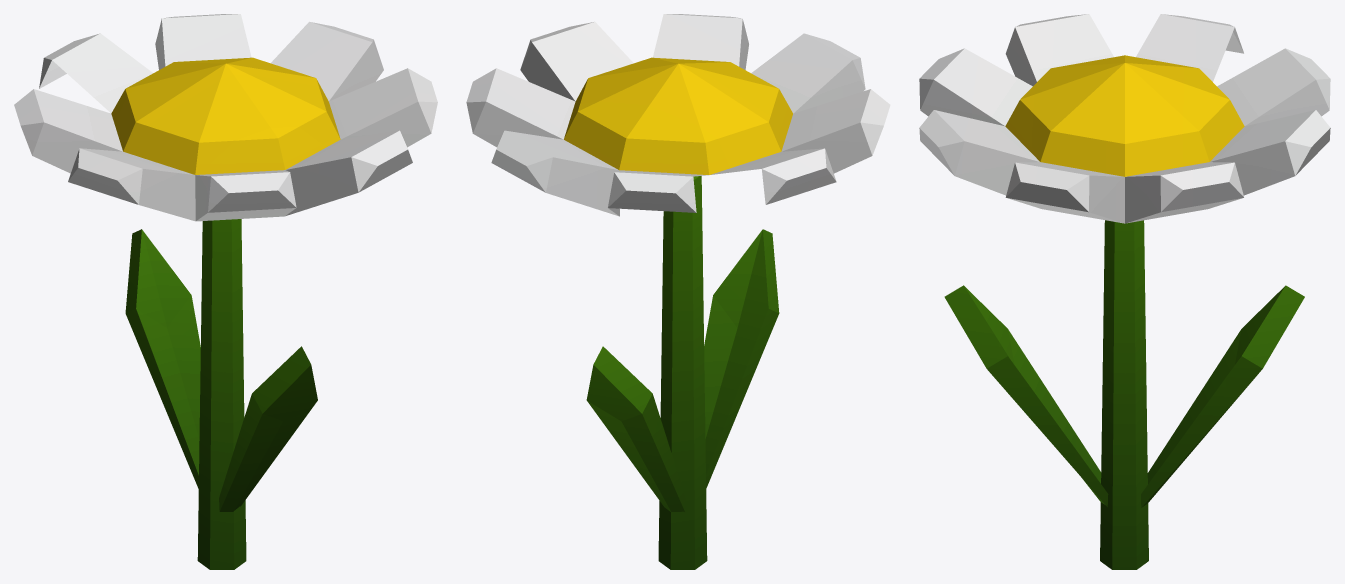
File: Flower.fbx
3 renders of one model, left to right at view 1: azimuth 30°, elevation 25°; view 2: azimuth 150°, elevation 25°; view 3: azimuth 270°, elevation 25°, orthographic.
Visible parts, largest first — view 1: Flower; view 2: Flower; view 3: Flower.
Part boxes in pixels (bbox=[...]): Flower: bbox=[14, 14, 437, 569]; Flower: bbox=[466, 14, 890, 569]; Flower: bbox=[919, 14, 1330, 569].
Size of the model in its own units: 34.35 by 46.1 by 34.35.
1 material, 1 textured.
